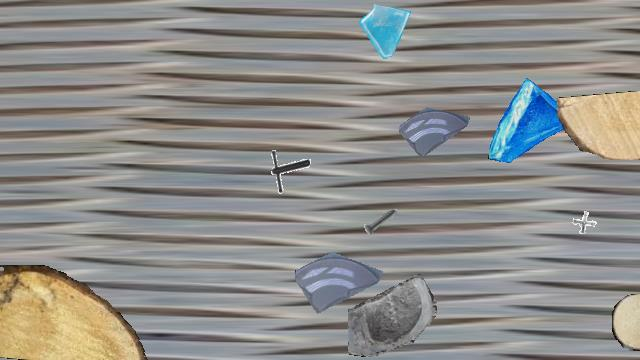glass: (486, 77, 580, 171), (348, 271, 436, 359), (295, 234, 383, 322), (399, 91, 471, 163), (358, 1, 416, 59)
metal: (262, 147, 310, 195), (360, 201, 402, 243), (566, 203, 606, 243)
plastic: (0, 175, 8, 359)
wood: (0, 265, 151, 359), (557, 91, 640, 159), (612, 294, 640, 350)
